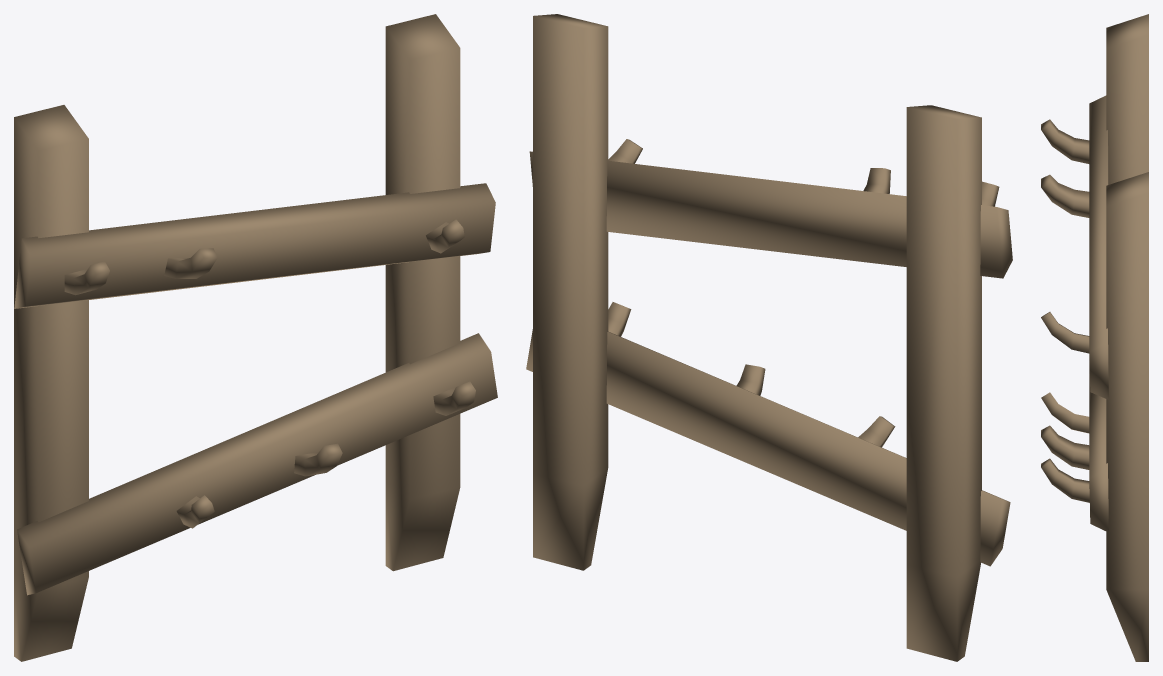
Rendered from rpgpp_av_tool_rack_wall_01a.gltf.
3 views of the same model, side by side, from view 1: azimuth 30°, elevation 25°; view 2: azimuth 150°, elevation 25°; view 3: azimuth 270°, elevation 25° (orthographic). The views are drawn at different scales.
Parts seen in each view (by area): view 1: rpgpp_av_tool_rack_wall_01a; view 2: rpgpp_av_tool_rack_wall_01a; view 3: rpgpp_av_tool_rack_wall_01a.
Part boxes in pixels (x1=…): rpgpp_av_tool_rack_wall_01a: x1=14, y1=14, x2=497, y2=661; rpgpp_av_tool_rack_wall_01a: x1=526, y1=14, x2=1012, y2=661; rpgpp_av_tool_rack_wall_01a: x1=1041, y1=14, x2=1148, y2=661.
Size of the model in its own units: 0.0128 by 0.0139 by 0.00288.
Materials: 1 (1 with a texture image).
